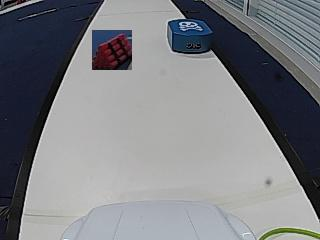danger: (178, 20, 202, 31)
